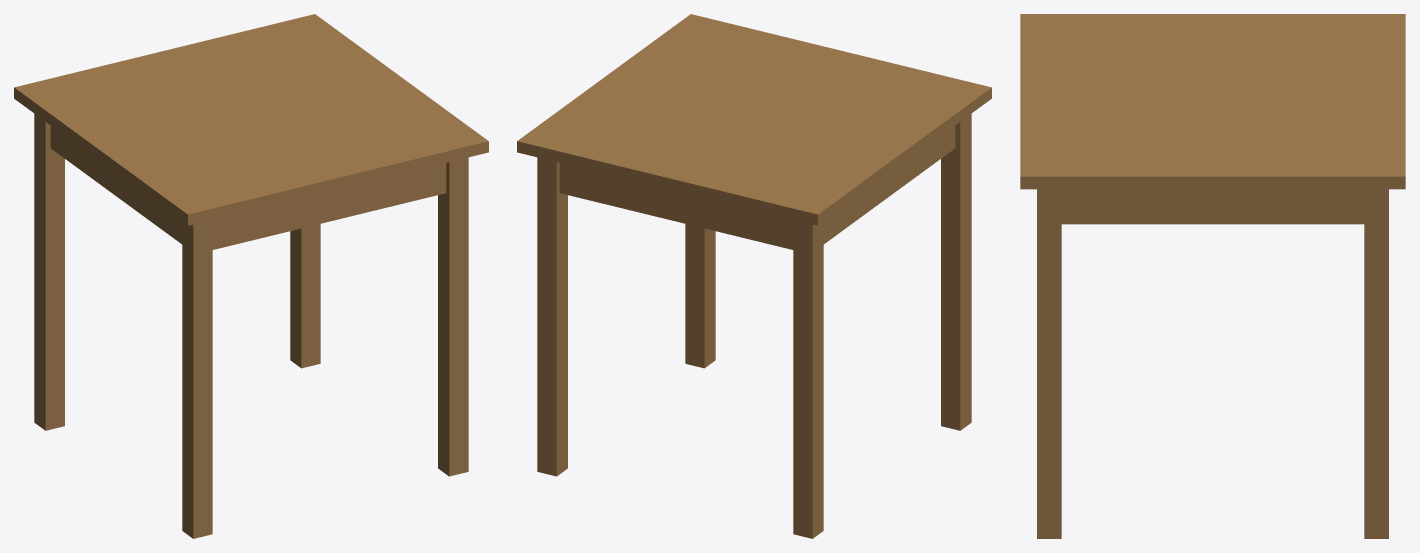
Rendered from HIN-OBT-std.glb.
3 renders of one model, left to right at view 1: azimuth 30°, elevation 25°; view 2: azimuth 150°, elevation 25°; view 3: azimuth 270°, elevation 25°, orthographic. The views are drawn at different scales.
Parts seen in each view (by area): view 1: top:pbr, leg-fl:pbr, leg-fr:pbr, leg-bl:pbr, apron-f:pbr, leg-br:pbr, apron-l:pbr; view 2: top:pbr, leg-bl:pbr, leg-br:pbr, leg-fl:pbr, apron-b:pbr, leg-fr:pbr, apron-l:pbr; view 3: top:pbr, apron-r:pbr, leg-fr:pbr, leg-br:pbr.
Part boxes in pixels (box(x1,y1,x2,y2)): top:pbr: box(14, 14, 488, 225); leg-fl:pbr: box(182, 220, 212, 538); leg-fr:pbr: box(438, 157, 468, 476); leg-bl:pbr: box(34, 114, 64, 430); apron-f:pbr: box(212, 163, 446, 249); leg-br:pbr: box(290, 224, 320, 368); apron-l:pbr: box(50, 126, 182, 244); top:pbr: box(517, 14, 991, 225); leg-bl:pbr: box(793, 220, 823, 538); leg-br:pbr: box(537, 157, 567, 476); leg-fl:pbr: box(941, 114, 971, 430); apron-b:pbr: box(559, 163, 793, 249); leg-fr:pbr: box(685, 224, 715, 368); apron-l:pbr: box(823, 126, 955, 244); top:pbr: box(1020, 14, 1405, 189); apron-r:pbr: box(1061, 189, 1364, 224); leg-fr:pbr: box(1037, 189, 1061, 538); leg-br:pbr: box(1364, 189, 1388, 538).
Bounding box in the file's own units: 0.7 × 0.74 × 0.7.
